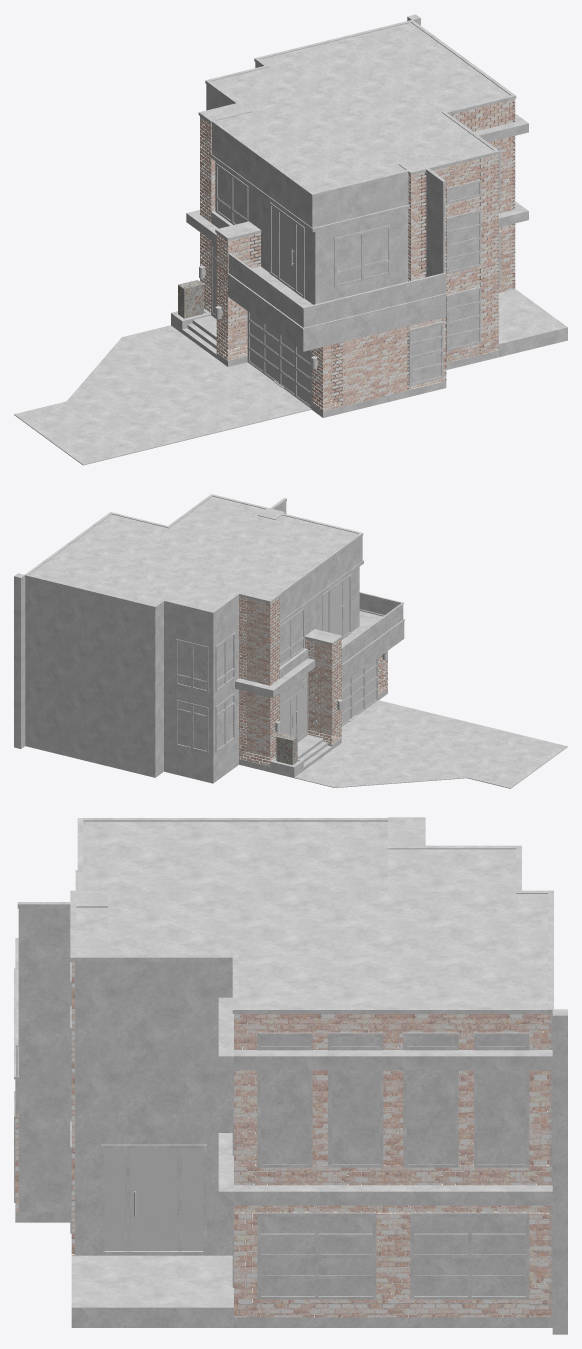
Rendered from a,msnfkajsfkjahs.obj.
The picture shows the model from 3 angles, top to bottom: view 1: azimuth 30°, elevation 25°; view 2: azimuth 150°, elevation 25°; view 3: azimuth 270°, elevation 25°; orthographic projection. The views are drawn at different scales.
Visible parts, largest first — view 1: Part215, Part230, Part160, Part51, Part298, Part594, Part247, Part386, Part186, Part394, Part355, Part296 (+35 smaller); view 2: Part92, Part230, Part215, Part160, Part51, Part339, Part298, Part386, Part394, Part560, Part429, Part451 (+35 smaller); view 3: Part121, Part230, Part160, Part298, Part65, Part186, Part583, Part35, Part128, Part134, Part257, Part562 (+32 smaller).
Part boxes in pixels (x1,y1,x2,y2): Part215: [14, 362, 311, 465]; Part230: [267, 47, 483, 164]; Part160: [216, 98, 405, 192]; Part51: [60, 337, 221, 425]; Part298: [342, 22, 510, 112]; Part594: [341, 326, 408, 406]; Part247: [479, 154, 498, 354]; Part386: [216, 233, 260, 360]; Part186: [498, 289, 567, 357]; Part394: [212, 124, 311, 226]; Part355: [305, 295, 446, 350]; Part296: [311, 174, 408, 227]; Part92: [25, 577, 153, 771]; Part230: [95, 502, 274, 599]; Part215: [338, 700, 567, 788]; Part160: [200, 515, 357, 593]; Part51: [322, 737, 483, 787]; Part339: [239, 596, 279, 766]; Part298: [29, 514, 168, 588]; Part386: [273, 632, 341, 744]; Part394: [277, 536, 362, 621]; Part560: [14, 573, 25, 748]; Part429: [164, 603, 175, 768]; Part451: [153, 603, 163, 777]; Part121: [75, 962, 234, 1144]; Part230: [108, 891, 516, 956]; Part160: [83, 821, 387, 891]; Part298: [238, 956, 547, 1007]; Part65: [18, 908, 71, 1211]; Part186: [71, 1255, 233, 1327]; Part583: [104, 1148, 203, 1250]; Part35: [414, 1216, 525, 1295]; Part128: [261, 1216, 372, 1295]; Part134: [234, 1185, 552, 1205]; Part257: [234, 1050, 552, 1070]; Part562: [234, 1164, 551, 1185].
Bounding box in the file's own units: 75.86 × 30 × 47.1.
